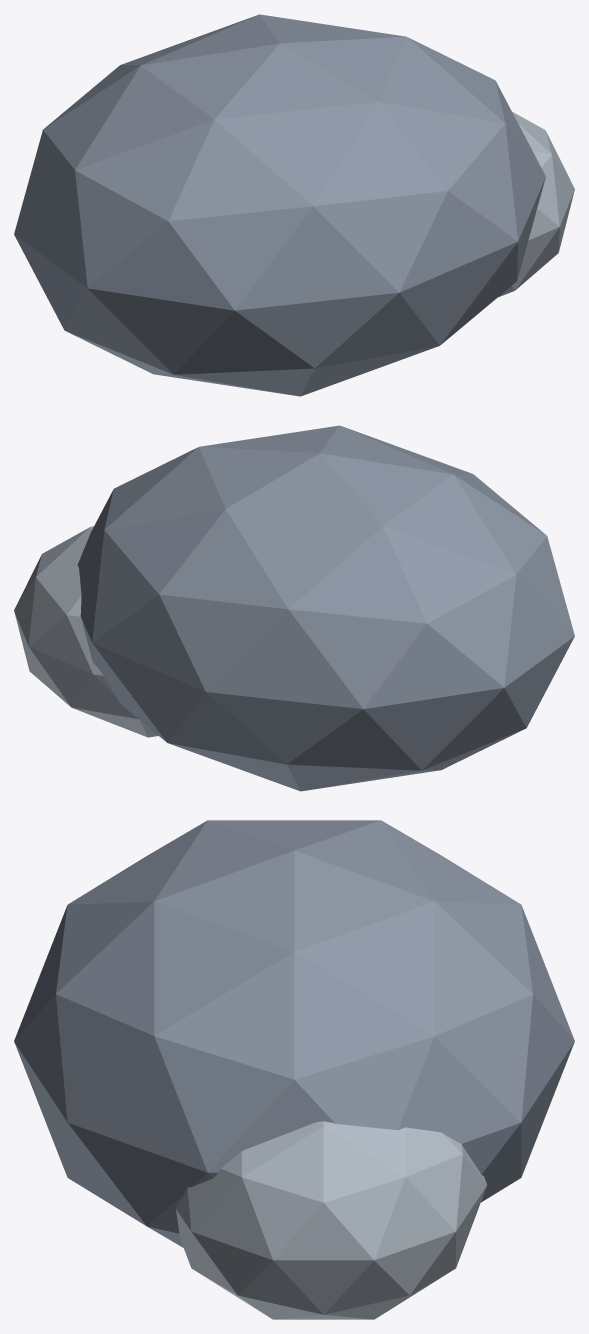
The model's file is Longboarding_Rock.fbx.
3 renders of one model, top to bottom at view 1: azimuth 30°, elevation 25°; view 2: azimuth 150°, elevation 25°; view 3: azimuth 270°, elevation 25°, orthographic. The views are drawn at different scales.
Visible parts, largest first — view 1: Rock; view 2: Rock; view 3: Rock.
Part boxes in pixels (x1,y1,x2,y2): Rock: (14,14,574,396); Rock: (14,425,574,791); Rock: (14,820,574,1319).
Bounding box in the file's own units: 2.39 × 1.44 × 1.92.
